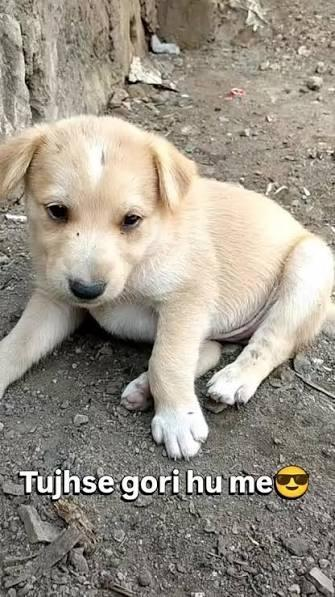puppy-dog: (0, 116, 334, 461)
